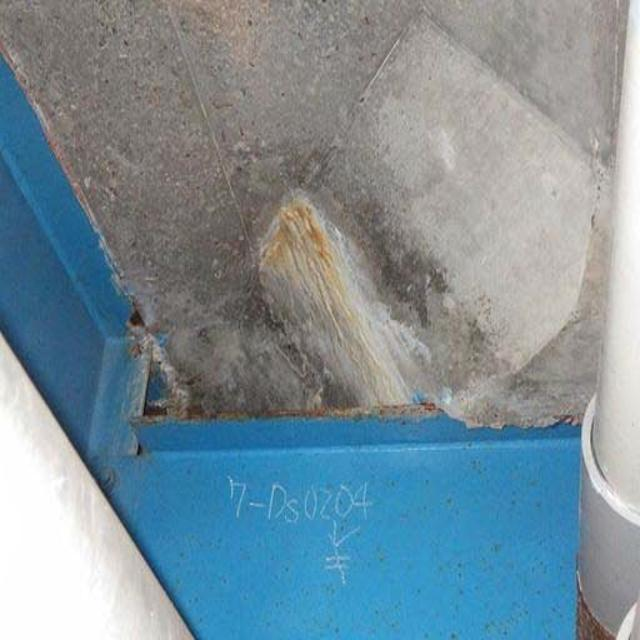freelime: (247, 193, 440, 433)
